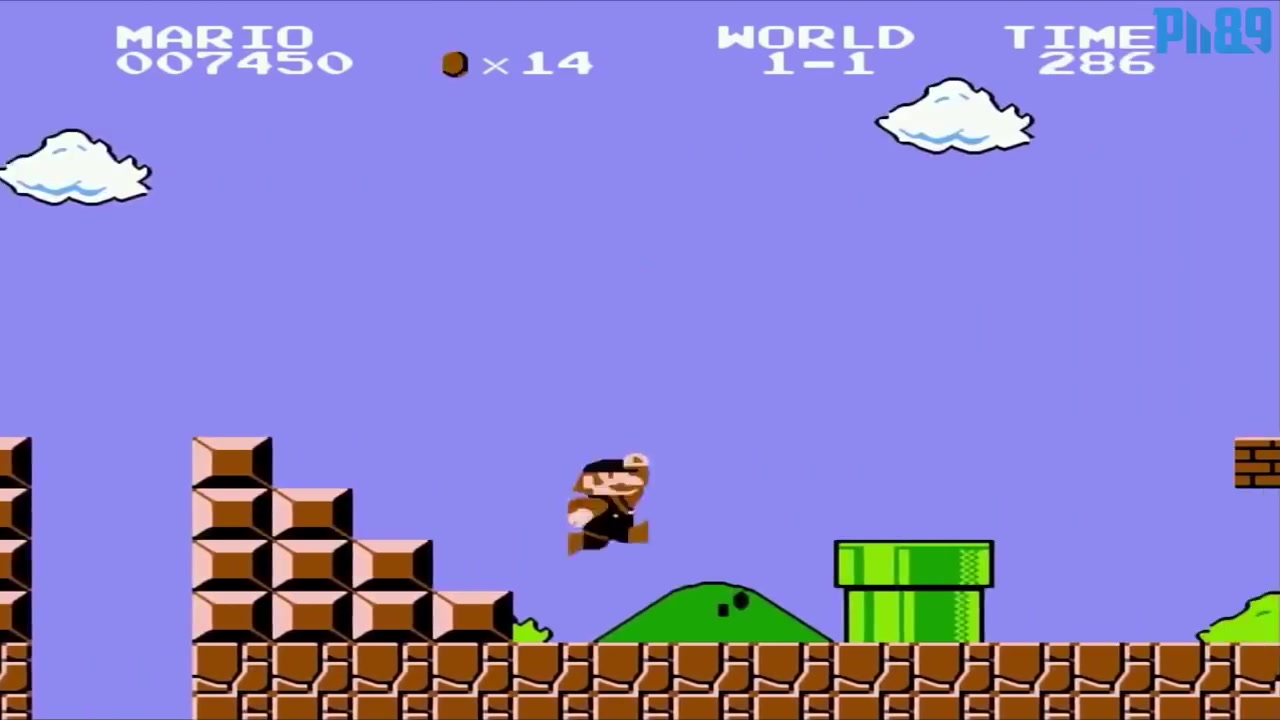mario: (569, 443, 663, 559)
